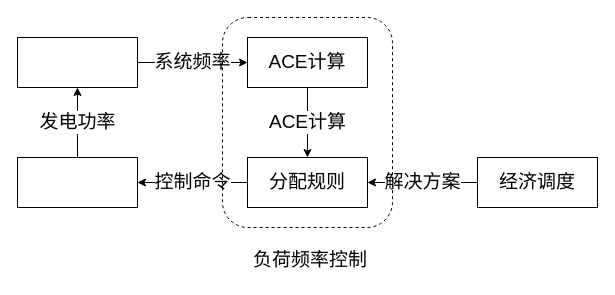
Image size: 615x295. Some labels were removed from this diagram. The shapes that lost their labels are listed below. From the top down, each one's centre as x and y in pixels, then its label:
the point at 77,62: 电力系统
the point at 77,182: 发电机组
